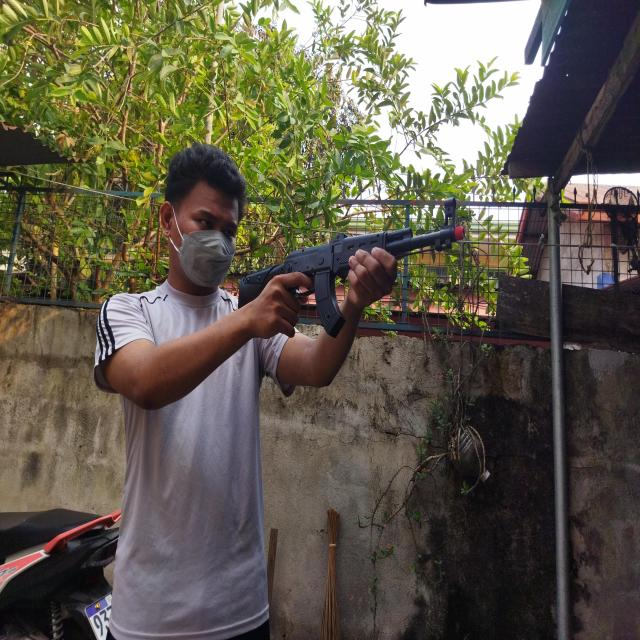rifle: (240, 196, 465, 335)
